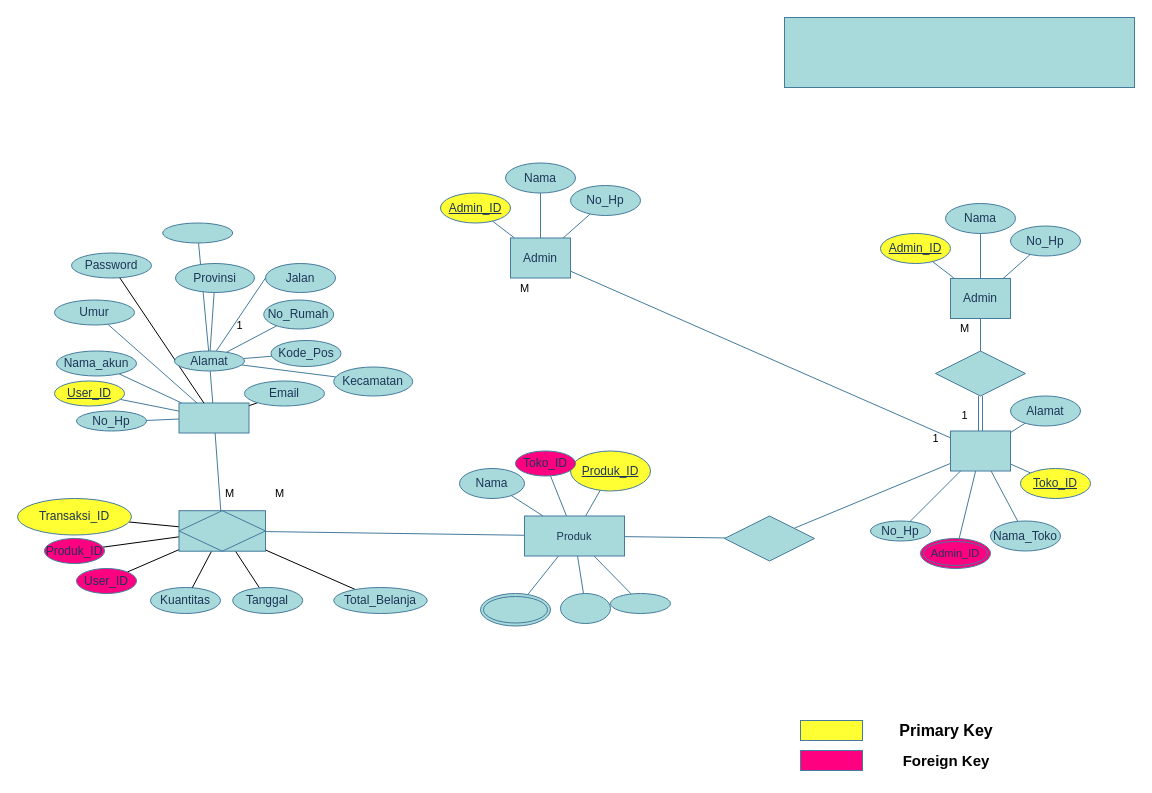
This 1152x793 diagram has some shape labels left out. The box of each missing label's shape, as (x1, y1, x2, y2) in pixels:
Harga: (610, 592, 670, 614)
Kategori: (480, 592, 550, 626)
Kota: (162, 222, 233, 243)
Memiliki: (934, 350, 1026, 396)
Menjual: (724, 515, 814, 561)
Nama : Arsyadi Indra Hasan Prihambada NIM : 123240062 Kelas : C: (784, 16, 1134, 88)
Stok: (560, 592, 610, 624)
Toko: (950, 430, 1010, 471)
Transaksi: (178, 510, 266, 551)
User: (178, 402, 249, 433)
